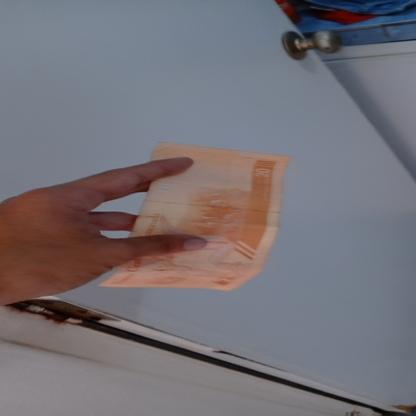twenty-back-vef: (97, 142, 288, 292)
